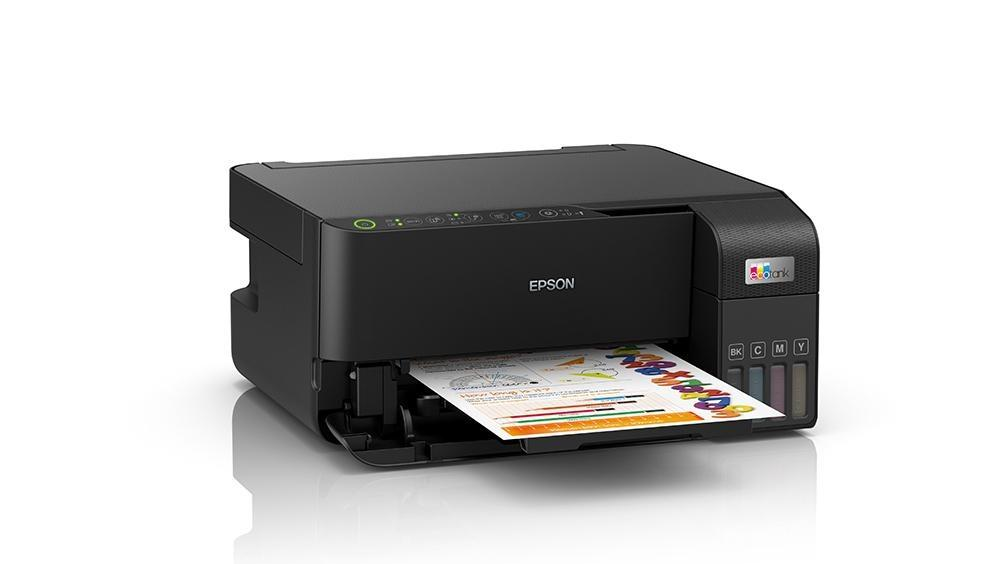Printer: (229, 140, 820, 468)
